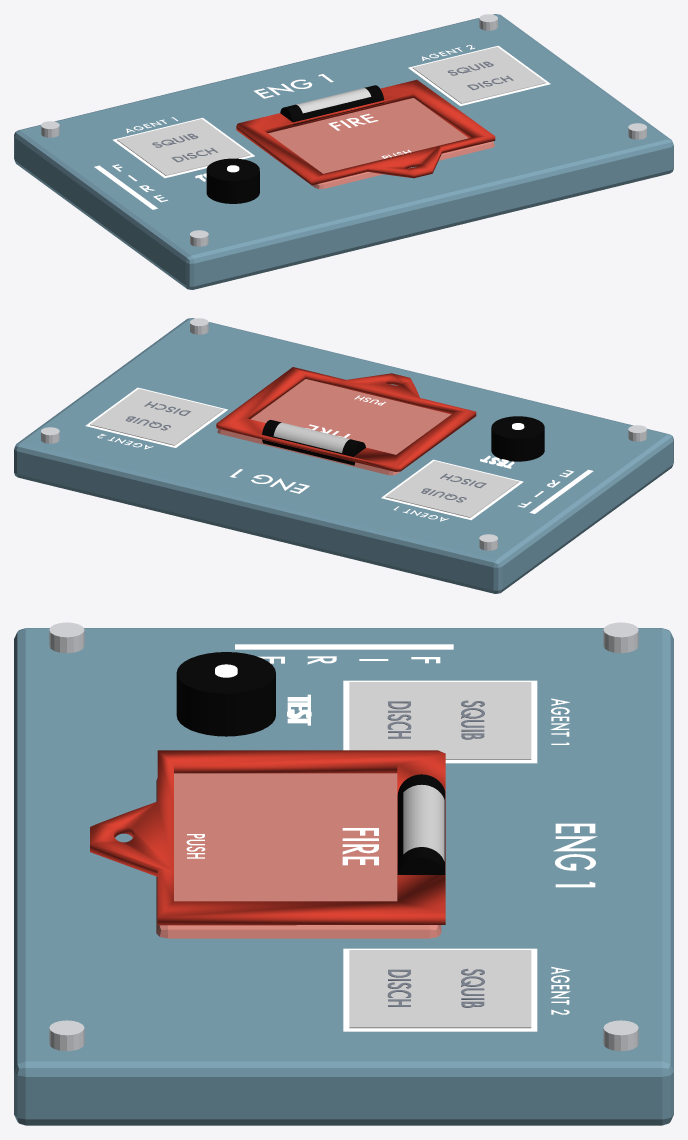
Rendered from eng1_left_panel.glb.
The picture shows the model from 3 angles, top to bottom: view 1: azimuth 30°, elevation 25°; view 2: azimuth 150°, elevation 25°; view 3: azimuth 270°, elevation 25°; orthographic projection. The views are drawn at different scales.
Visible parts, largest first — view 1: Panel, ENG1_FirePb, ENG1_Guard, ENG1_A2_WRC, ENG1_A1_WRC, ENG1_TEST, ENG1_GUARD_PIVOT_CAVITY, ENG1_A2_WRO, ENG1_A1_WRO; view 2: Panel, ENG1_FirePb, ENG1_Guard, ENG1_A1_WRC, ENG1_A2_WRC, ENG1_TEST, ENG1_GUARD_PIVOT_CAVITY, ENG1_A1_WRO, ENG1_A2_WRO; view 3: Panel, ENG1_FirePb, ENG1_Guard, ENG1_A2_WRC, ENG1_A1_WRC, ENG1_TEST, ENG1_GUARD_PIVOT_CAVITY, ENG1_A2_WRO, ENG1_A1_WRO, ENG1_FireBar, ENG1_title, Scr_12_12 (+4 smaller).
Boxes of the visible parts, box(x1,y1,x2,y2) form: Panel: box(14, 14, 673, 289); ENG1_FirePb: box(268, 98, 494, 189); ENG1_Guard: box(236, 79, 495, 185); ENG1_A2_WRC: box(412, 47, 545, 103); ENG1_A1_WRC: box(117, 119, 250, 175); ENG1_TEST: box(206, 158, 259, 203); ENG1_GUARD_PIVOT_CAVITY: box(280, 85, 384, 124); ENG1_A2_WRO: box(408, 45, 550, 105); ENG1_A1_WRO: box(113, 117, 254, 178); Panel: box(14, 318, 673, 593); ENG1_FirePb: box(217, 379, 450, 475); ENG1_Guard: box(216, 367, 476, 471); ENG1_A1_WRC: box(385, 461, 519, 517); ENG1_A2_WRC: box(90, 389, 223, 445); ENG1_TEST: box(491, 416, 544, 461); ENG1_GUARD_PIVOT_CAVITY: box(262, 420, 365, 465); ENG1_A1_WRO: box(381, 459, 523, 520); ENG1_A2_WRO: box(85, 387, 227, 447); Panel: box(14, 628, 673, 1125); ENG1_FirePb: box(156, 773, 441, 938); ENG1_Guard: box(90, 750, 445, 925); ENG1_A2_WRC: box(349, 950, 531, 1028); ENG1_A1_WRC: box(349, 682, 531, 759); ENG1_TEST: box(176, 652, 275, 736); ENG1_GUARD_PIVOT_CAVITY: box(397, 774, 445, 874); ENG1_A2_WRO: box(343, 948, 537, 1031); ENG1_A1_WRO: box(343, 680, 537, 763); ENG1_FireBar: box(235, 644, 453, 649); ENG1_title: box(553, 823, 597, 887); Scr_12_12: box(603, 622, 638, 653).
Bounding box in the file's own units: 0.0891 × 0.0134 × 0.0561.
